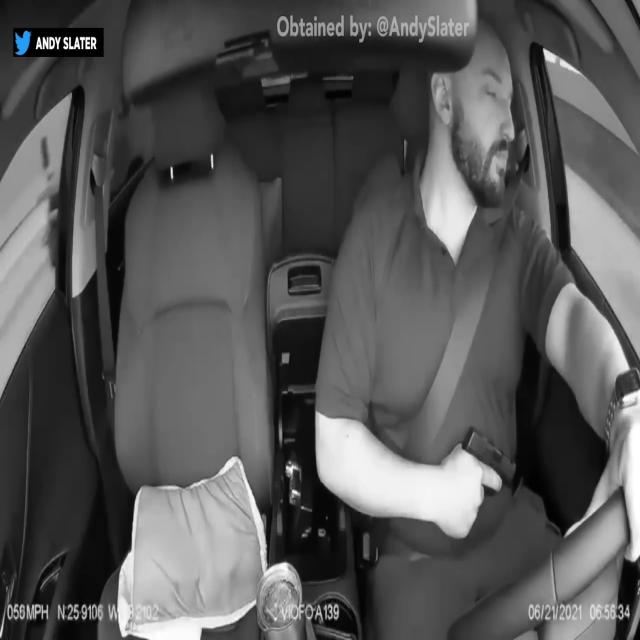senjata_api: (462, 424, 518, 497)
